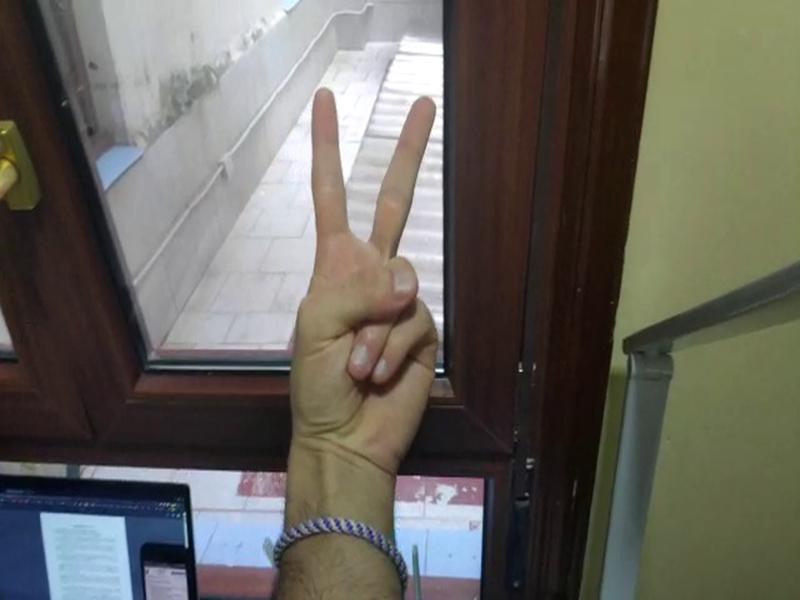Peace: (277, 67, 457, 460)
